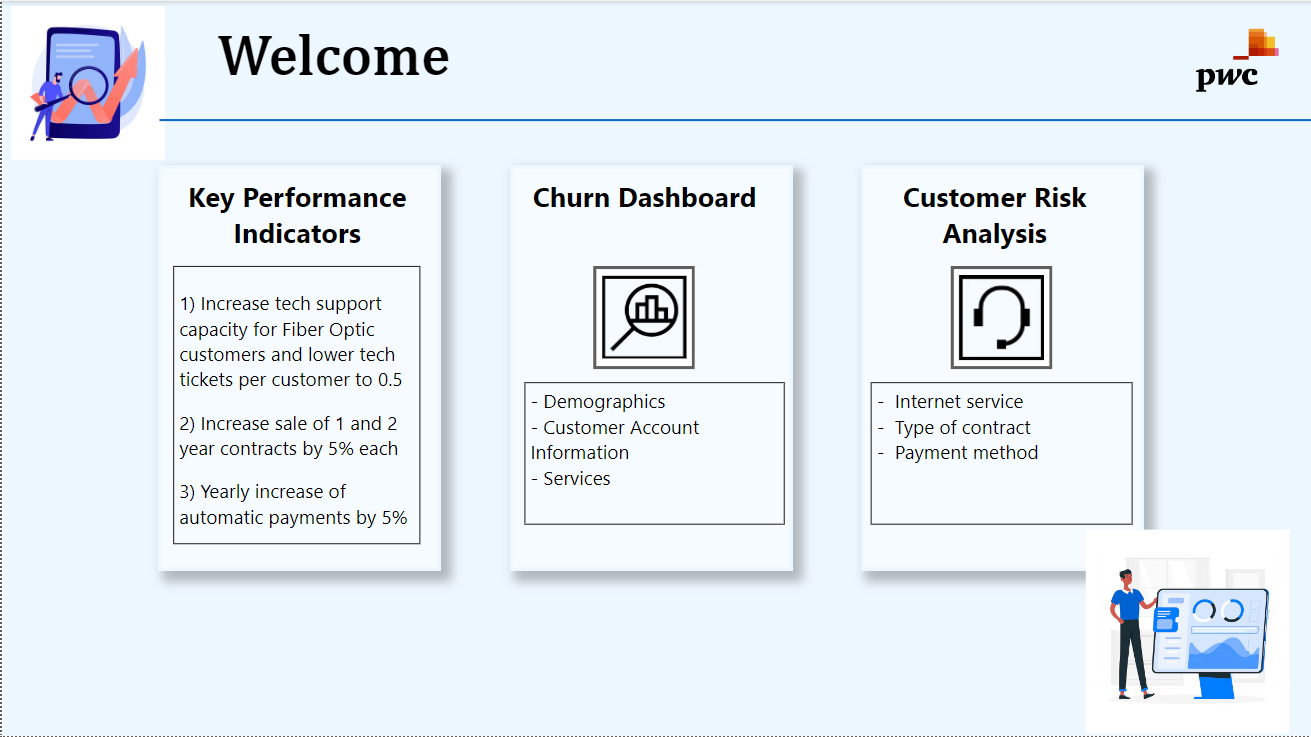

The page's visual inventory and layout, read from the dashboard file:
{"tool":"powerbi","page":{"name":"Welcome","canvas":[1280,720],"ordinal":0},"visuals":[{"type":"basicShape","box":[153.2,160.2,276.4,397.9],"z":0},{"type":"basicShape","box":[496.5,160.2,276.4,397.9],"z":1000},{"type":"basicShape","box":[839.8,160.2,276.4,397.9],"z":2000},{"type":"textbox","box":[832.8,167.2,276.7,86.7],"z":3000},{"type":"textbox","box":[490.2,167.3,276.7,86.7],"z":4000},{"type":"textbox","box":[511.5,372.3,254.4,139.3],"z":5000},{"type":"textbox","box":[849.7,372.3,255.8,139.3],"z":6000},{"type":"textbox","box":[150,167.2,276.7,86.7],"z":7000},{"type":"textbox","box":[167.5,258.8,241.6,271.8],"z":8000},{"type":"image","box":[1135.4,0,144.9,116.5],"z":9000},{"type":"actionButton","box":[578.3,258.6,99.5,100.9],"z":10000},{"type":"actionButton","box":[927.9,258.6,99.5,100.9],"z":11000},{"type":"image","box":[0,0,167.7,160.6],"z":11001},{"type":"shape","box":[153.5,96.6,1126.8,39.8],"z":11002},{"type":"textbox","box":[186.1,19.9,277.1,76.7],"z":11003},{"type":"image","box":[1039,511.8,241.3,209.2],"z":11004}]}

Visuals, with their boxes in screenshot pixels (x1, y1, x2, y2), scaled from the page's 1280x720 canvas onto the 1311x737 screenshot:
basicShape: [157, 164, 440, 571]
basicShape: [509, 164, 792, 571]
basicShape: [860, 164, 1143, 571]
textbox: [853, 171, 1136, 260]
textbox: [502, 171, 785, 260]
textbox: [524, 381, 784, 524]
textbox: [870, 381, 1132, 524]
textbox: [154, 171, 437, 260]
textbox: [172, 265, 419, 543]
image: [1163, 0, 1310, 119]
actionButton: [592, 265, 694, 368]
actionButton: [950, 265, 1052, 368]
image: [0, 0, 172, 164]
shape: [157, 99, 1310, 140]
textbox: [191, 20, 474, 99]
image: [1064, 524, 1310, 736]
